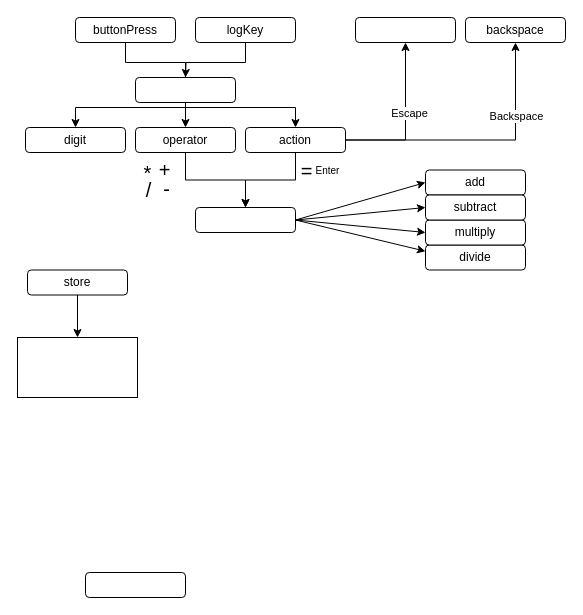
The diagram is 583 pixels wide and 615 high, and some of its shapes have lost their labels. The shapes that lost their labels are listed below. From the top down, each one's centre as x and y in pixels, then its label:
At (x=405, y=29): "clear".
At (x=185, y=89): "handleEntry".
At (x=245, y=219): "operate".
At (x=77, y=367): "Used in several places for rounding".
At (x=135, y=585): "calcDisplay".
